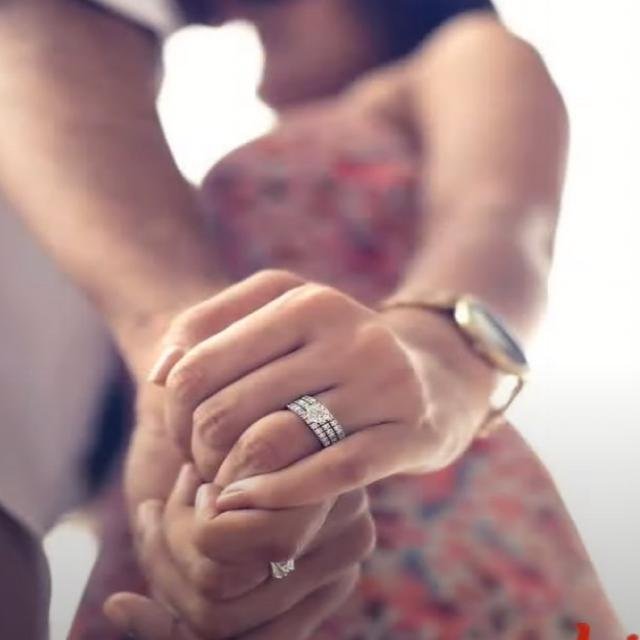Watch: (386, 284, 540, 432)
